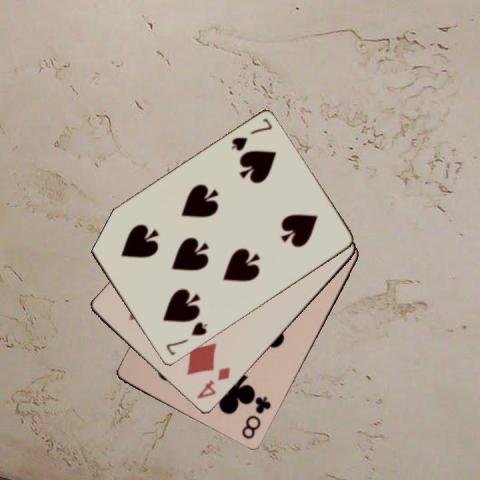4d: (193, 364, 232, 400)
7s: (227, 116, 274, 154), (162, 319, 208, 357)
8c: (239, 393, 272, 442)
